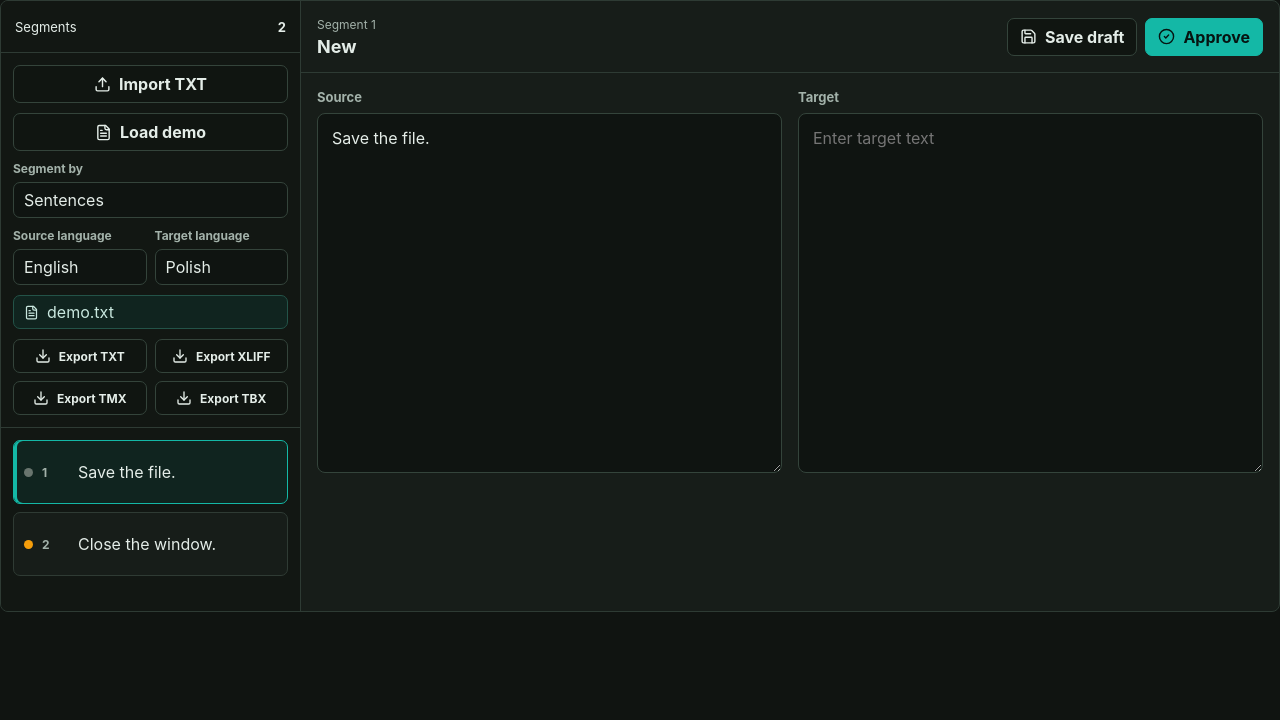
approves the active segment after persisting target text
Type "Zapisz plik." into the text box labelled "Target".
click(1030, 293); type("Zapisz plik.")  # box [798,113,1263,473]
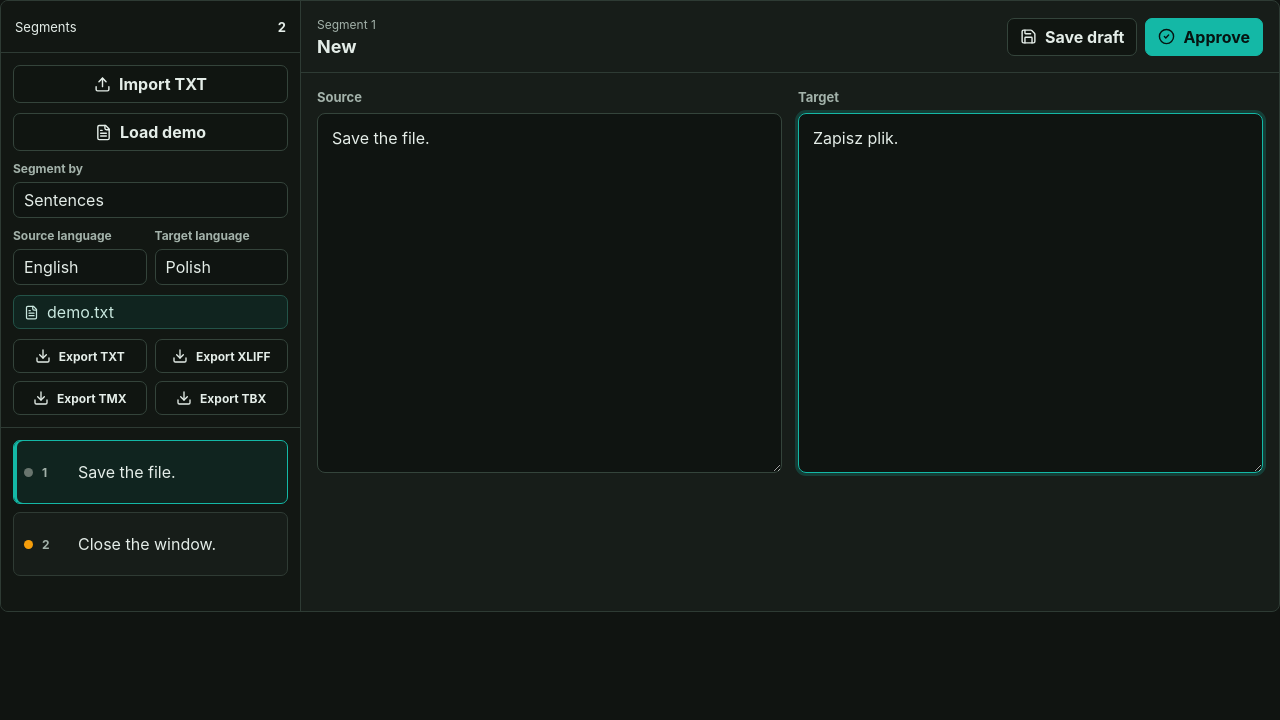
Click the button "Approve".
click(1204, 36)  # box [1145,18,1263,56]
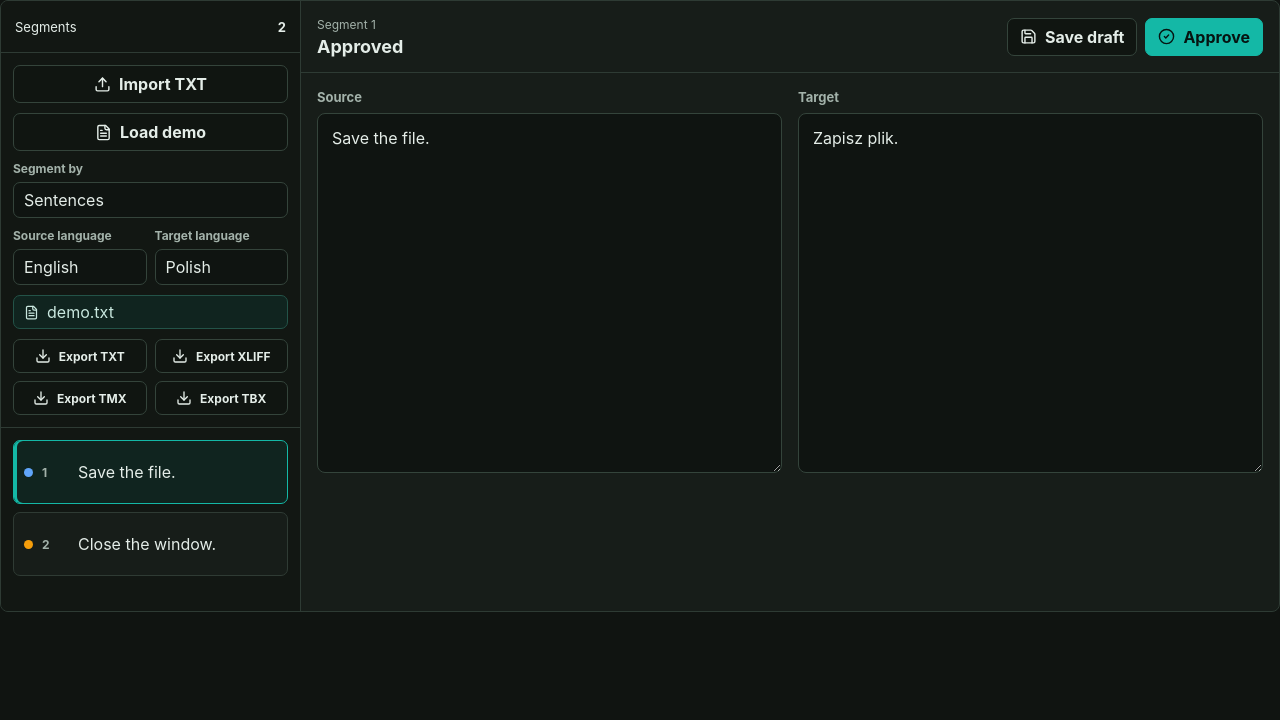
Expected: the heading reads "approved", [317,36,403,56]
